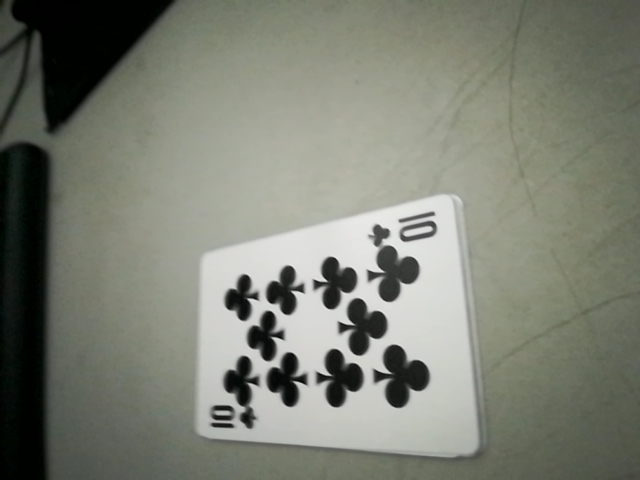mh 10: (366, 206, 453, 251), (203, 401, 260, 437)
